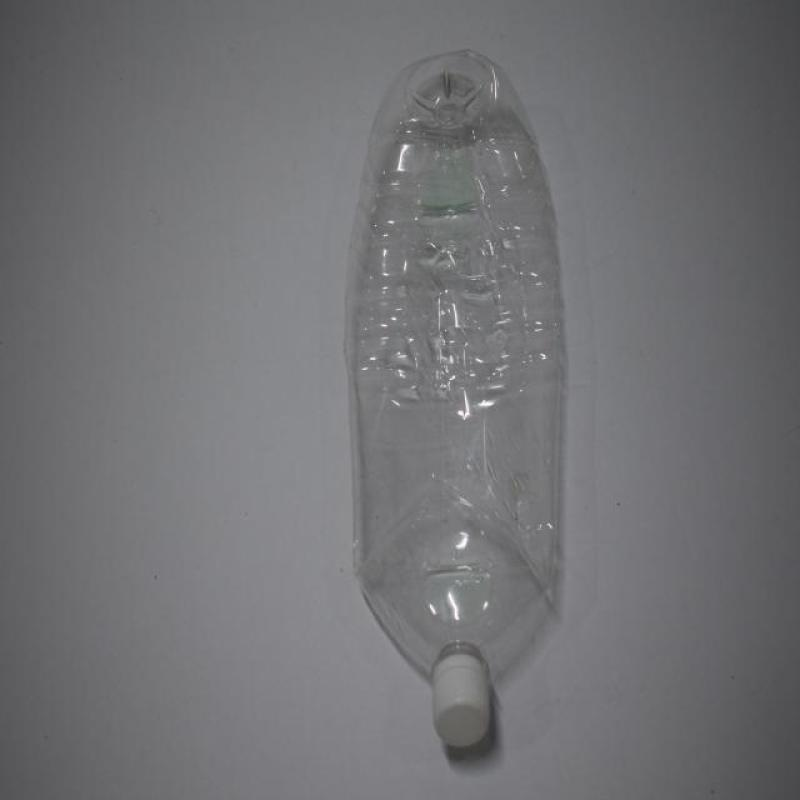botella: (344, 49, 570, 753)
